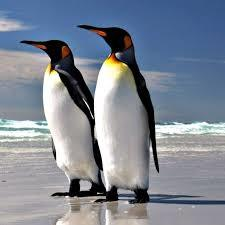king: (72, 10, 169, 210), (19, 23, 117, 207)
